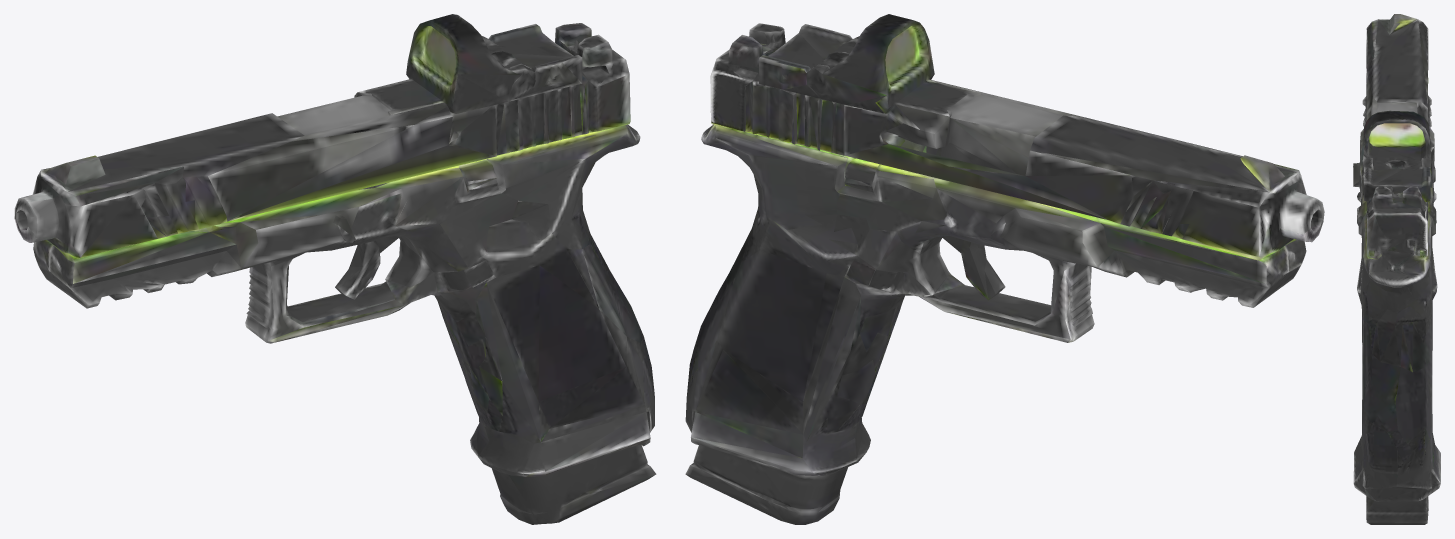
The model's file is gun_pistol.glb.
3 renders of one model, left to right at view 1: azimuth 30°, elevation 25°; view 2: azimuth 150°, elevation 25°; view 3: azimuth 270°, elevation 25°, orthographic. The views are drawn at different scales.
Parts seen in each view (by area): view 1: Mesh_0; view 2: Mesh_0; view 3: Mesh_0.
Boxes of the visible parts, left/top/right/bottom form: Mesh_0: left=14, top=14, right=656, bottom=524; Mesh_0: left=685, top=14, right=1324, bottom=524; Mesh_0: left=1353, top=14, right=1440, bottom=524.
Size of the model in its own units: 1.9 by 1.48 by 0.3206.
1 material, 1 textured.
